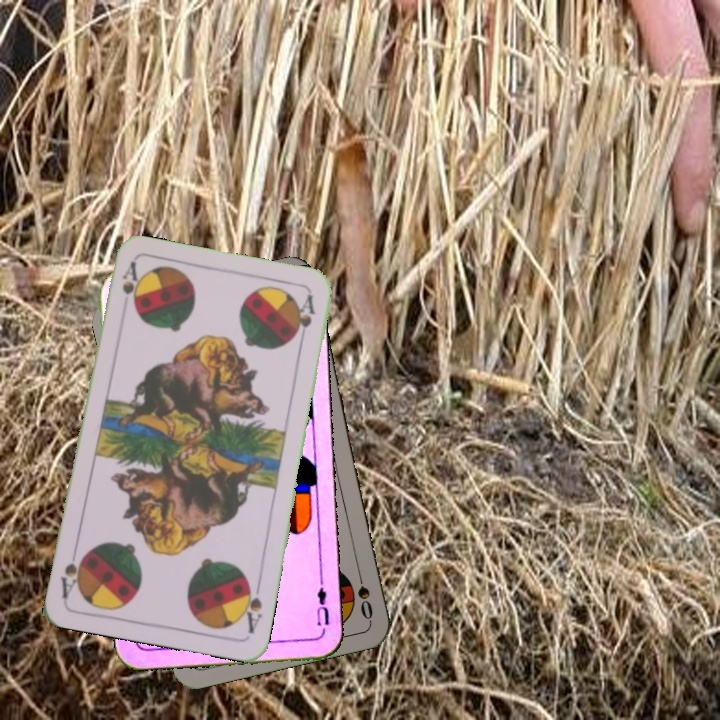EU: (312, 575, 332, 634)
SA: (237, 576, 265, 637), (118, 258, 140, 304)
SO: (352, 564, 376, 622)
